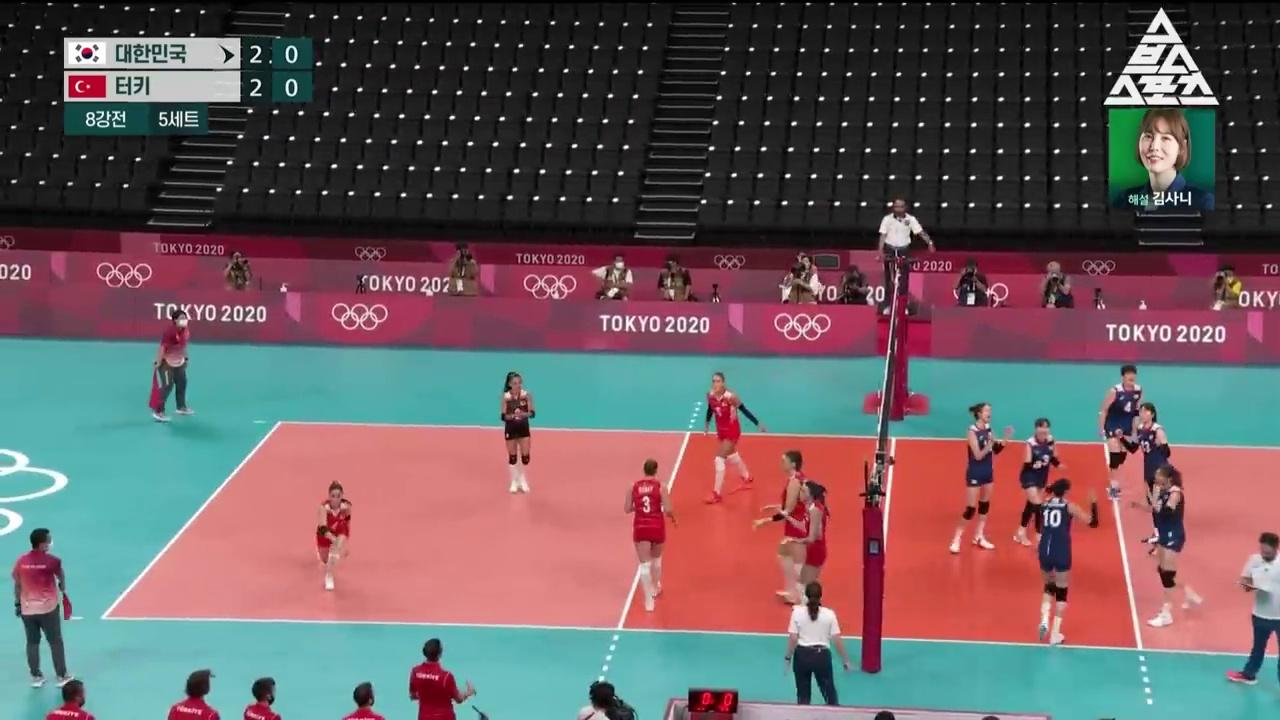player: (1131, 466, 1202, 627), (1039, 479, 1099, 645), (950, 403, 1013, 552), (761, 482, 827, 623), (752, 451, 811, 606), (1116, 403, 1173, 555), (703, 372, 766, 504), (624, 459, 678, 611), (1014, 418, 1067, 546), (1099, 364, 1142, 500), (501, 371, 535, 494), (316, 480, 352, 590)
referee: (784, 582, 849, 705), (876, 198, 935, 315)
